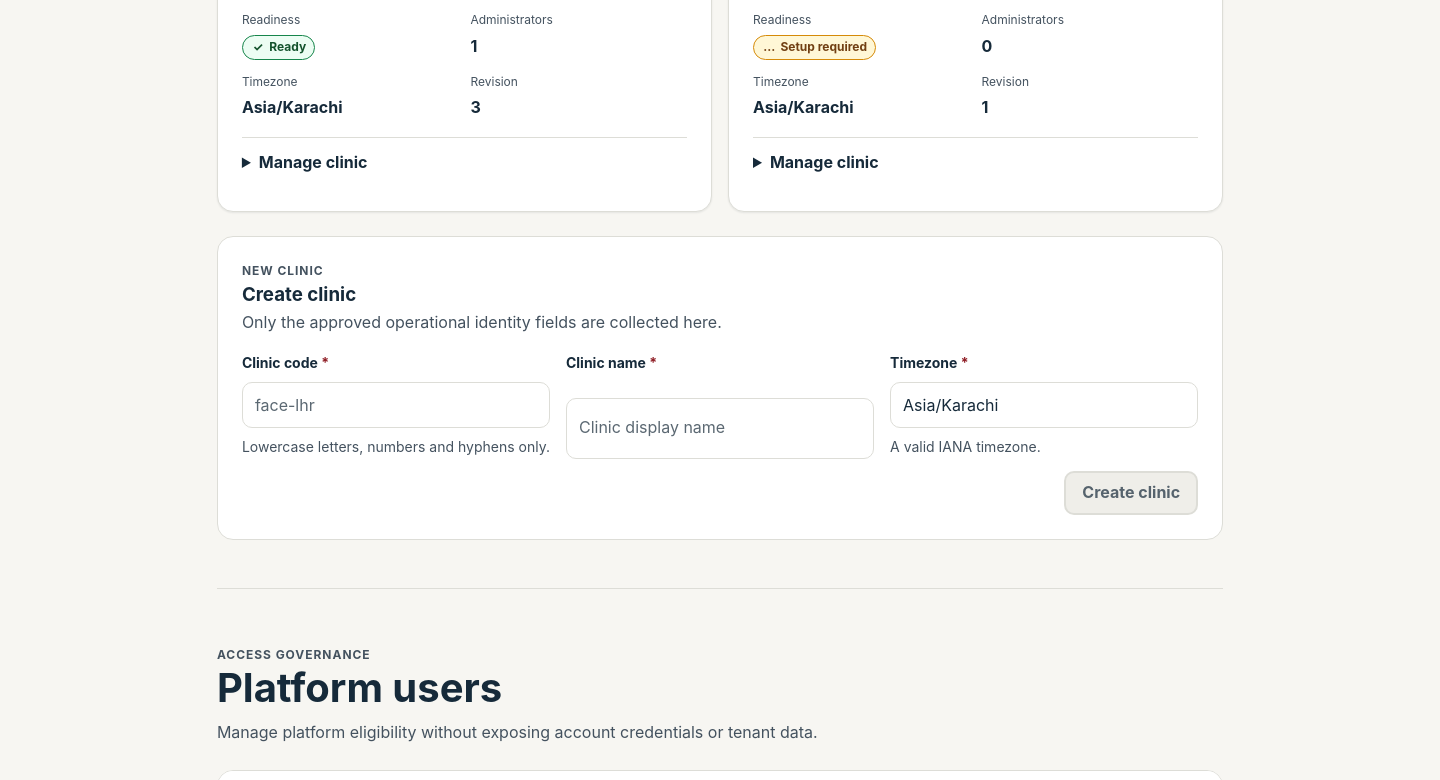
Test: PlatformDashboardView › provides labelled create controls and controlled clinic actions
(page scrolled)
Check: the button "Create clinic" is disabled, box [1064,471,1198,515]
Type "new-lhr" into the field labelled "Clinic code *". click: coordinates (396, 405)
box: [243,383,549,427]
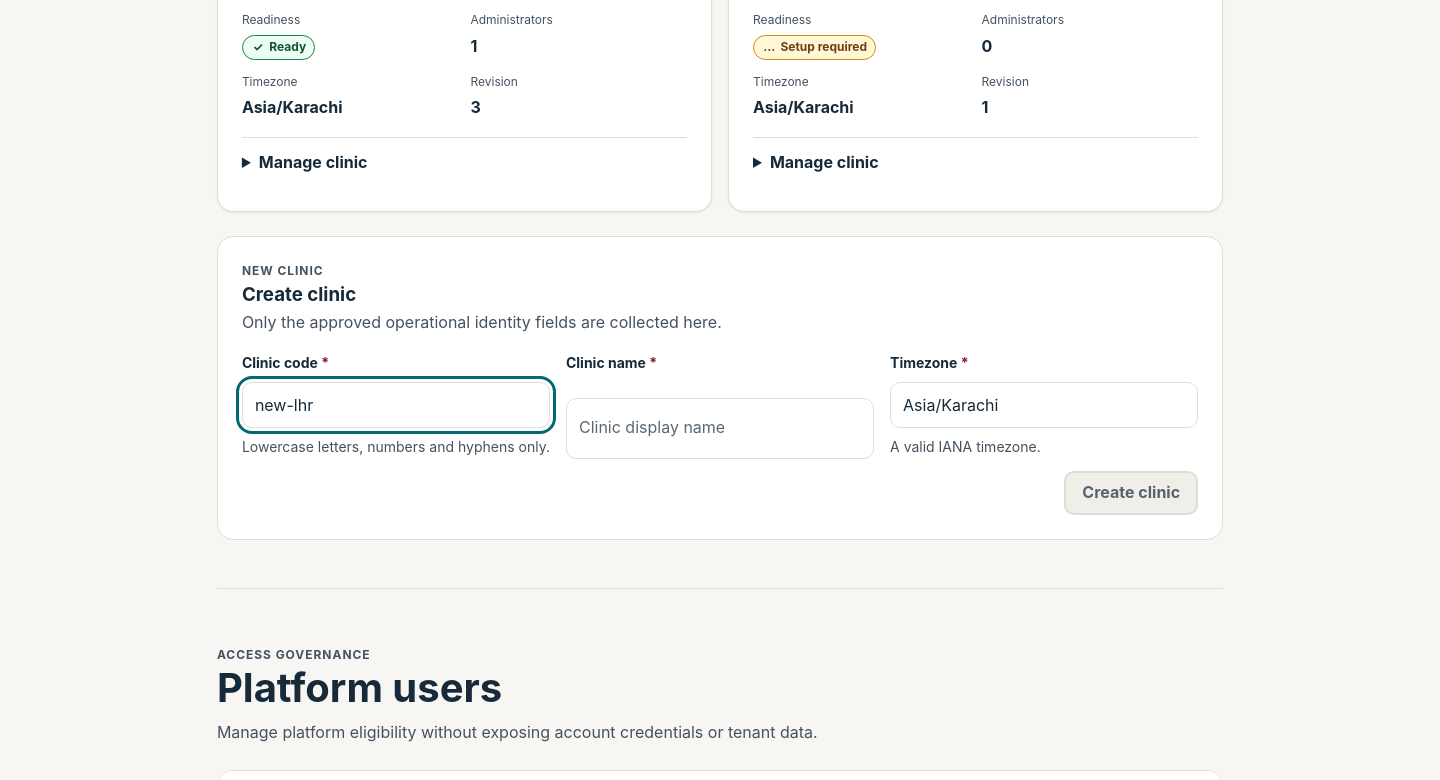
Type "New Lahore Clinic" into the field labelled "Clinic name *". click: coordinates (720, 428)
box: [567,406,873,450]
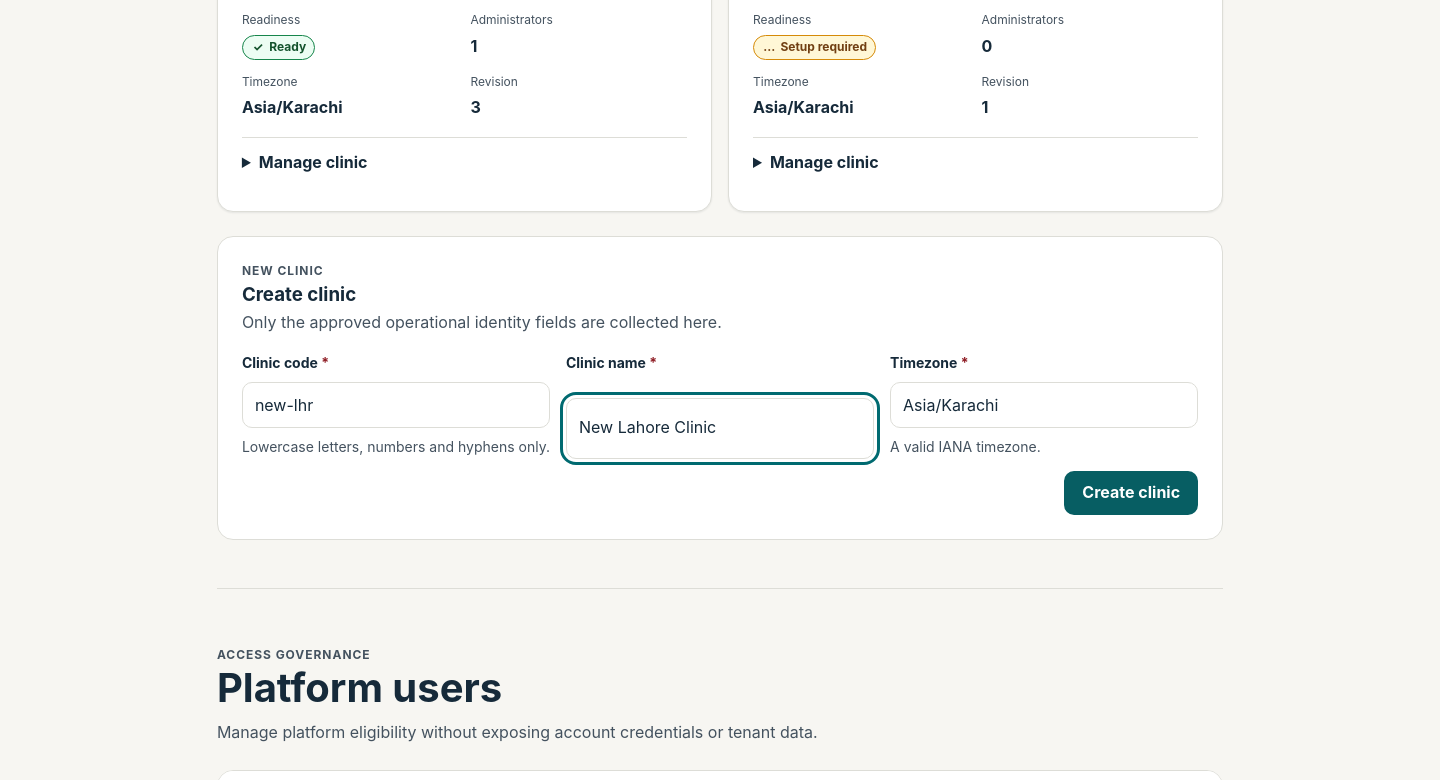
Check: the button "Create clinic" is enabled, box [1064,471,1198,515]
Click the heading "Manage clinic" below "FACE-LHR". click: coordinates (313, 162)
box: [259,152,368,172]
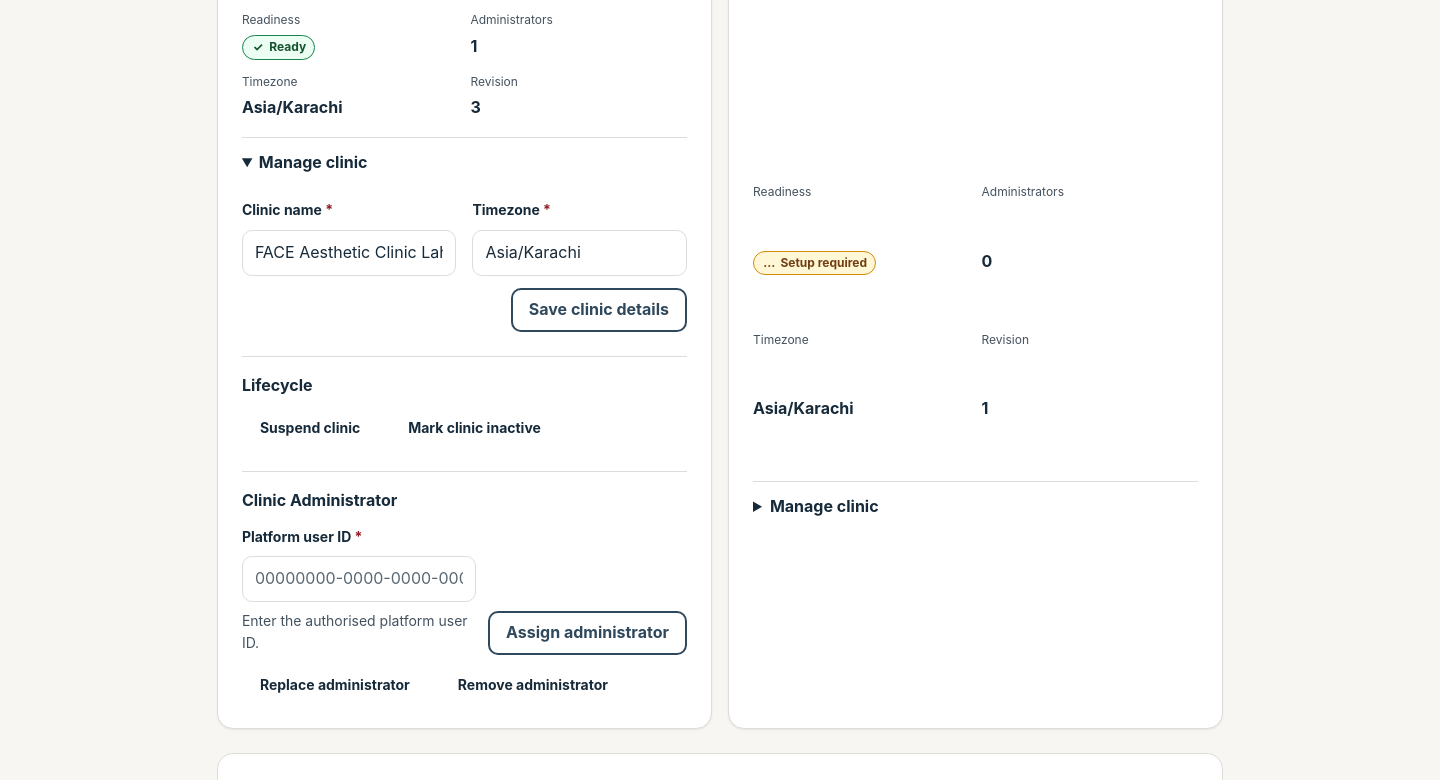
Check: the button "Save clinic details" is enabled, box [511,288,687,332]
Check: the button "Suspend clinic" is enabled, box [242,410,378,447]
Check: the button "Assign administrator" is enabled, box [488,611,687,655]
